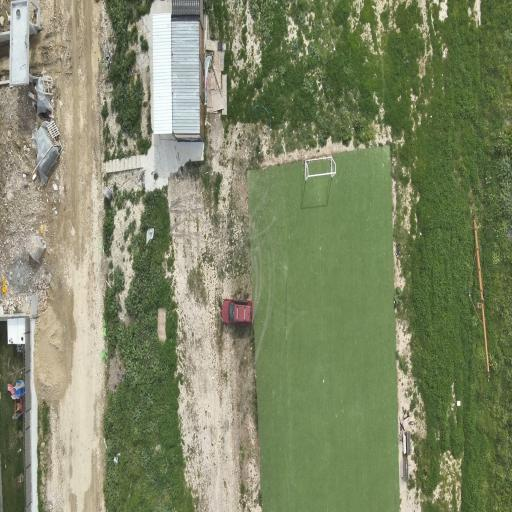car: (222, 299, 253, 324)
